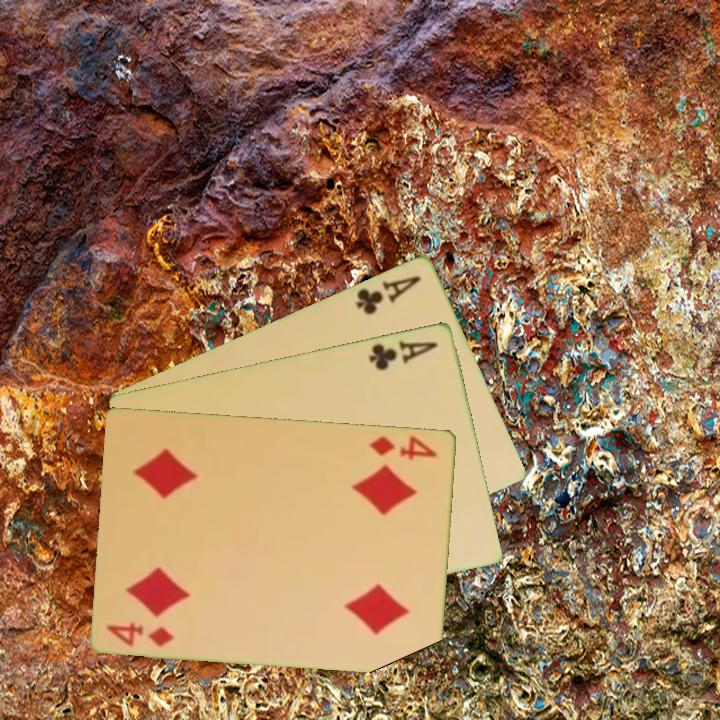4d: (103, 618, 177, 649), (366, 432, 440, 462)
Ac: (352, 271, 424, 317), (366, 337, 441, 373)
